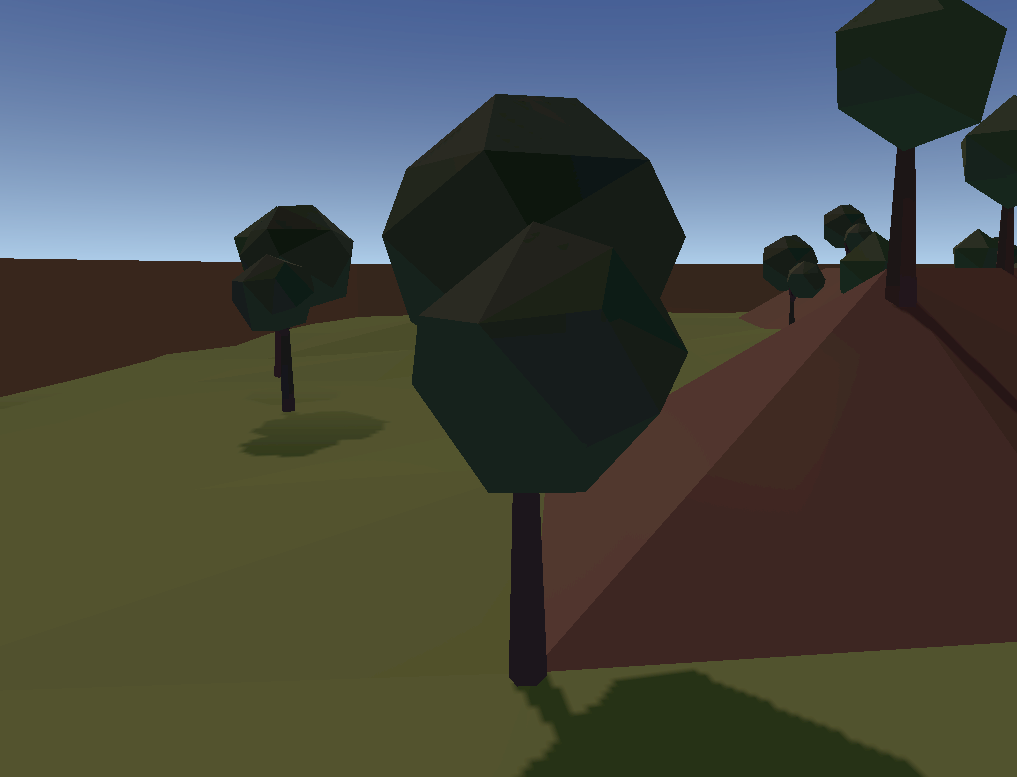tree: (383, 59, 676, 702), (828, 2, 1001, 315), (189, 187, 361, 430), (948, 84, 1017, 316), (750, 227, 828, 333), (946, 220, 1017, 301), (840, 228, 894, 302), (818, 204, 875, 248)
